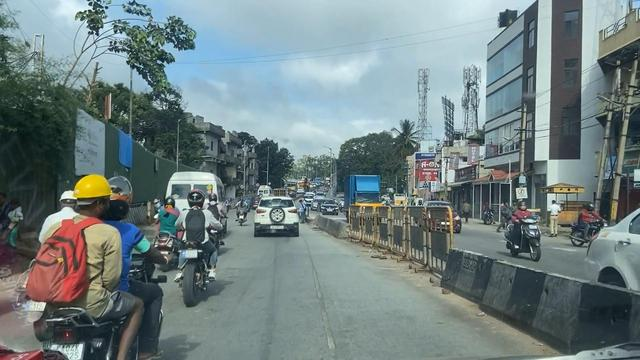LMV: (177, 193, 220, 302), (255, 196, 298, 238)
UnsurfacedRoad: (302, 237, 339, 360)
